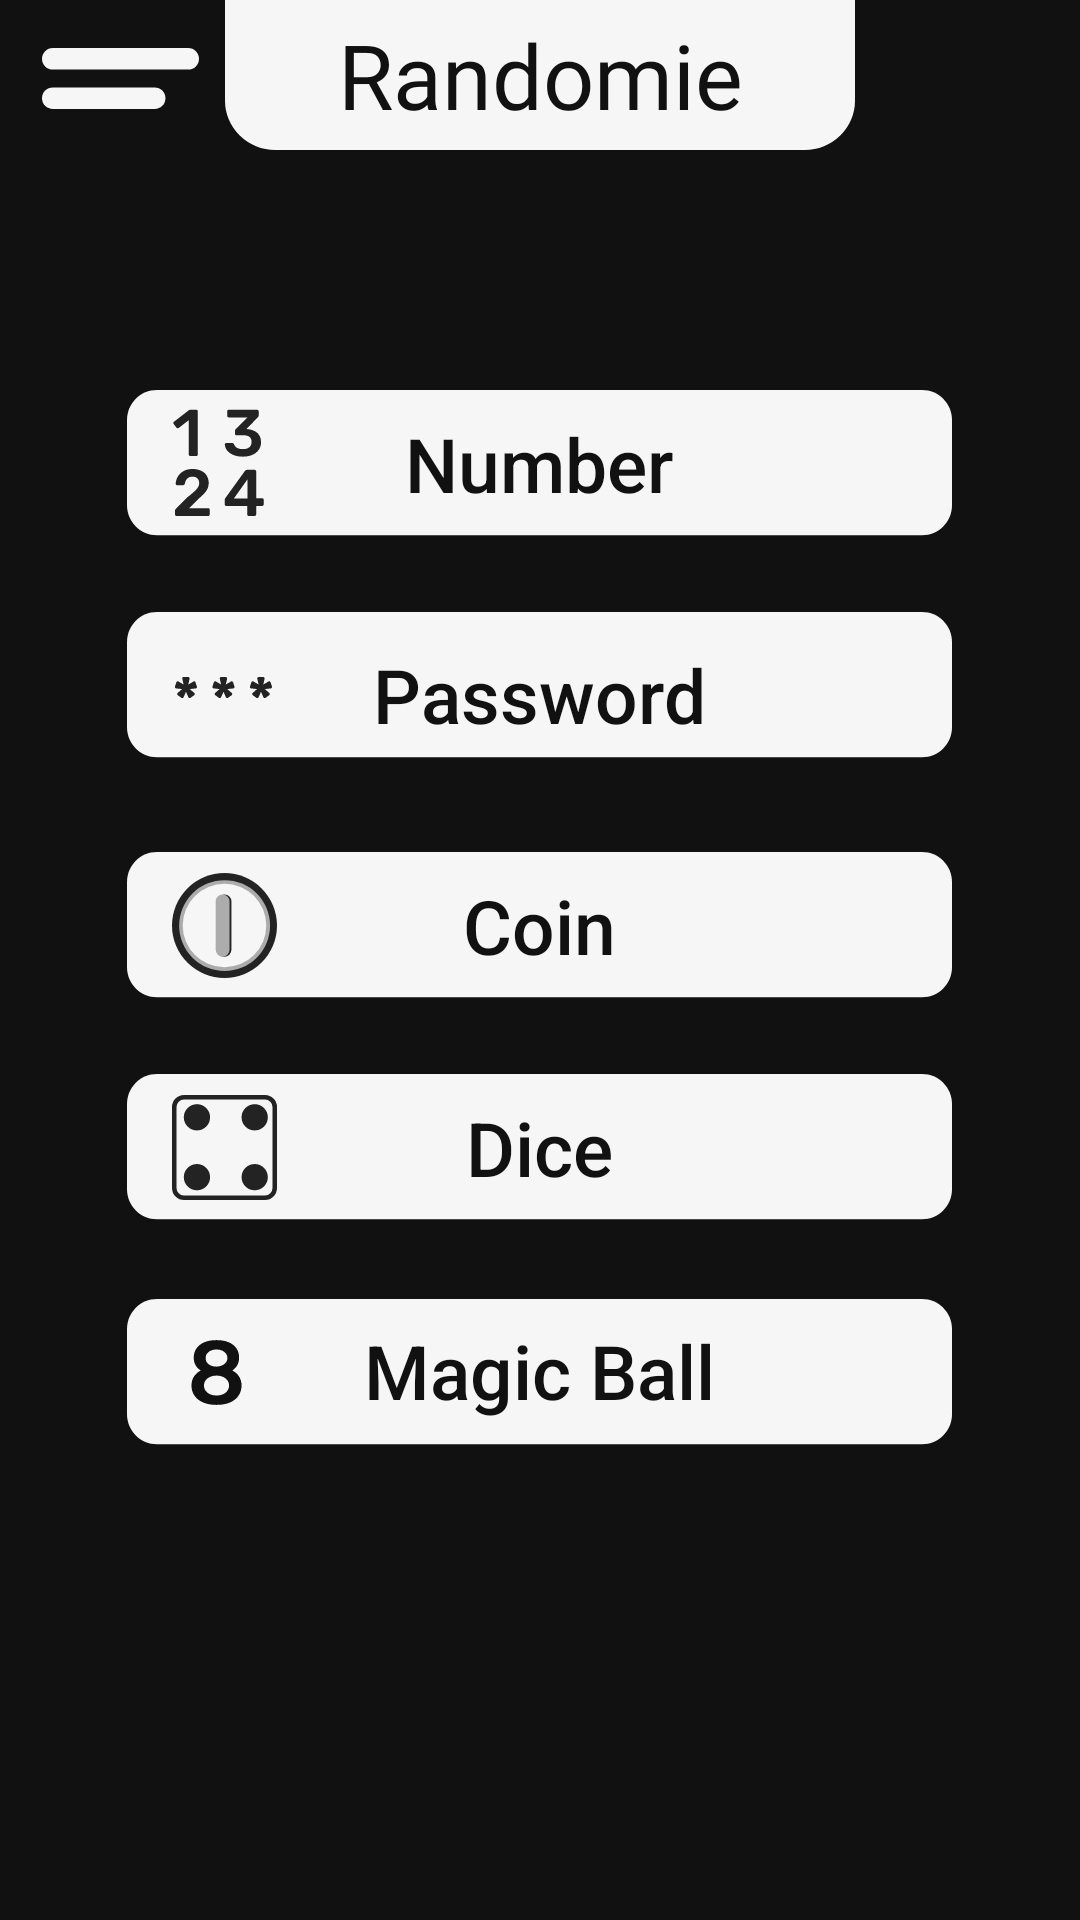

Screen size 1080w x 1920h. Icon name, then its center in pixels as (x=x, y=y):
options: (x=120, y=78)
